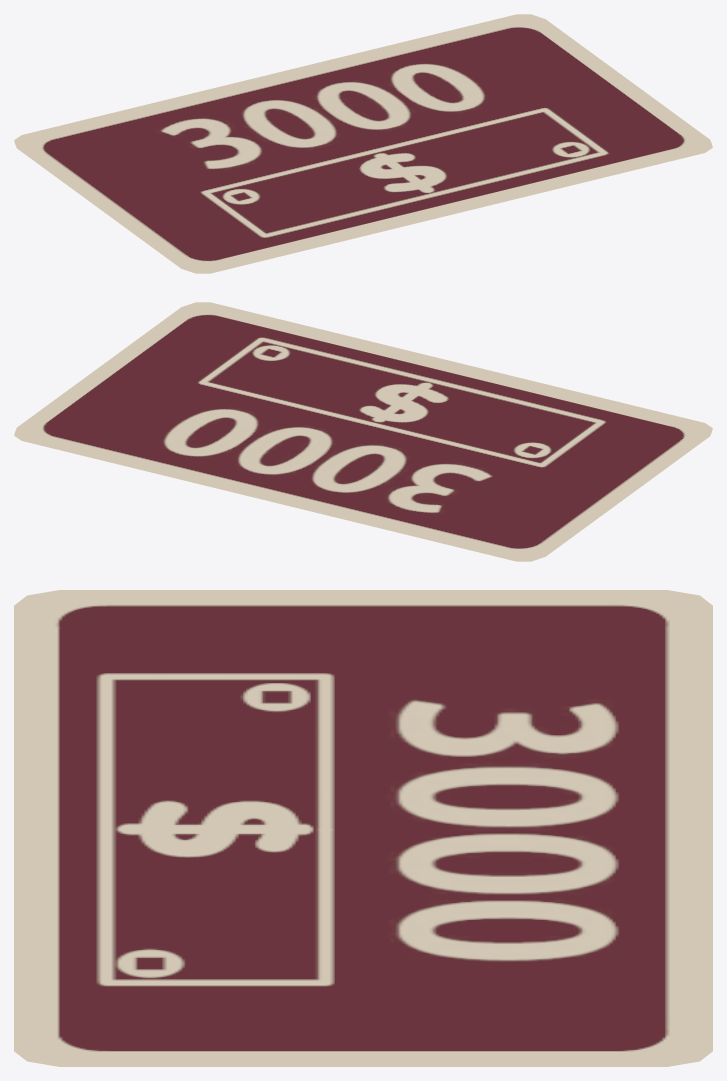
Rendered from Sucai_011.FBX.
3 renders of one model, top to bottom at view 1: azimuth 30°, elevation 25°; view 2: azimuth 150°, elevation 25°; view 3: azimuth 270°, elevation 25°, orthographic. The views are drawn at different scales.
Visible parts, largest first — view 1: Sucai_011; view 2: Sucai_011; view 3: Sucai_011.
Part boxes in pixels (x1,y1,x2,y2): Sucai_011: (14,14,712,273); Sucai_011: (14,302,712,561); Sucai_011: (14,590,712,1066).
Size of the model in its own units: 2.88 by 7.82e-08 by 1.78.
Materials: 1 (1 with a texture image).
